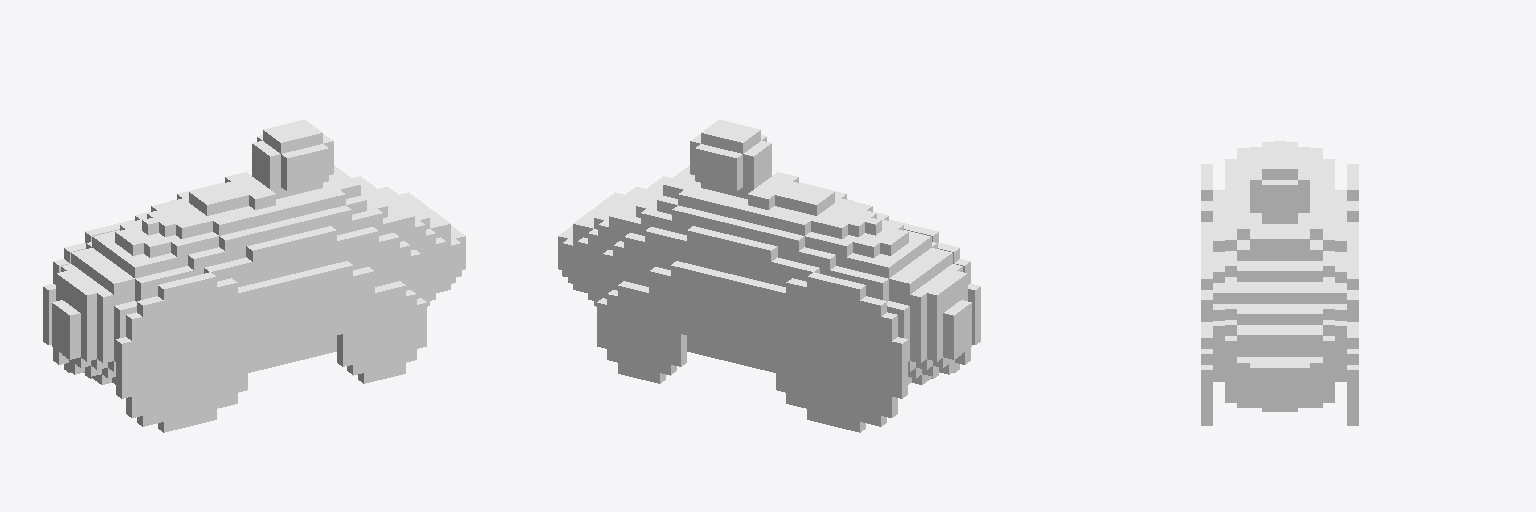
The model's file is raceCarToy.obj.
3 views of the same model, side by side, from view 1: azimuth 30°, elevation 25°; view 2: azimuth 150°, elevation 25°; view 3: azimuth 270°, elevation 25° (orthographic).
Visible parts, largest first — view 1: object 1; view 2: object 1; view 3: object 1.
Boxes of the visible parts, x1=… form: object 1: x1=43, y1=119, x2=465, y2=432; object 1: x1=558, y1=119, x2=980, y2=432; object 1: x1=1201, y1=141, x2=1358, y2=425.
Bounding box in the file's own units: 3.7 × 2.1 × 1.3.